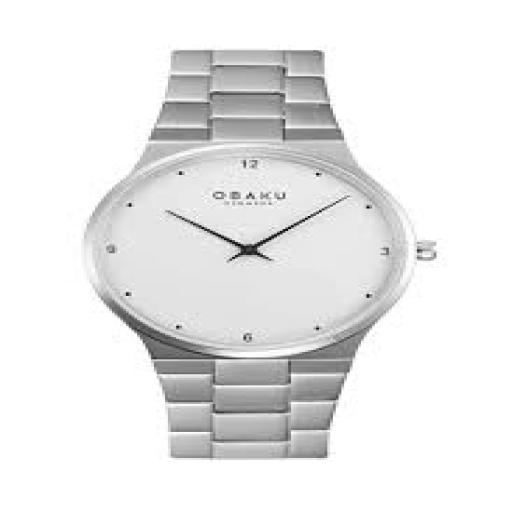KolSaati: (52, 24, 443, 471)
